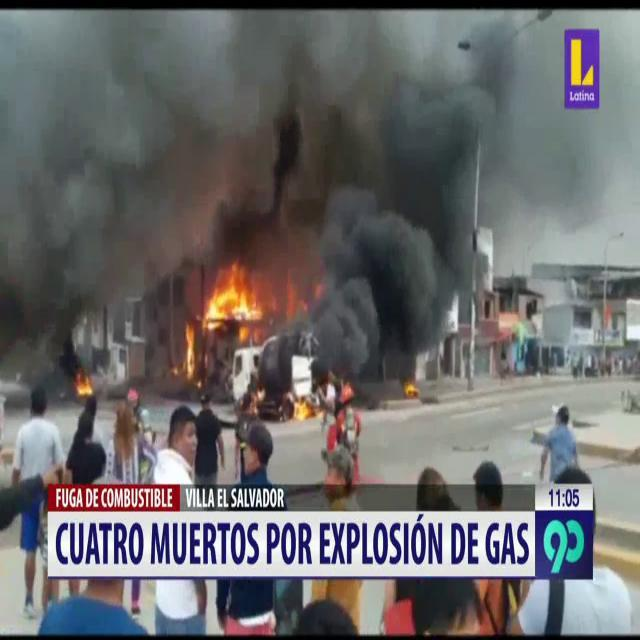Fire: (199, 259, 268, 339), (290, 393, 314, 423)
Smoke: (0, 6, 551, 350), (479, 1, 640, 271)
